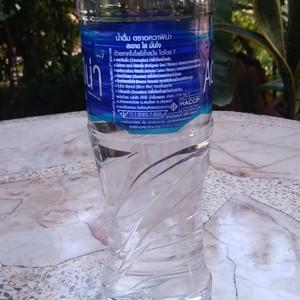plastic_bottle: (75, 1, 218, 300)
